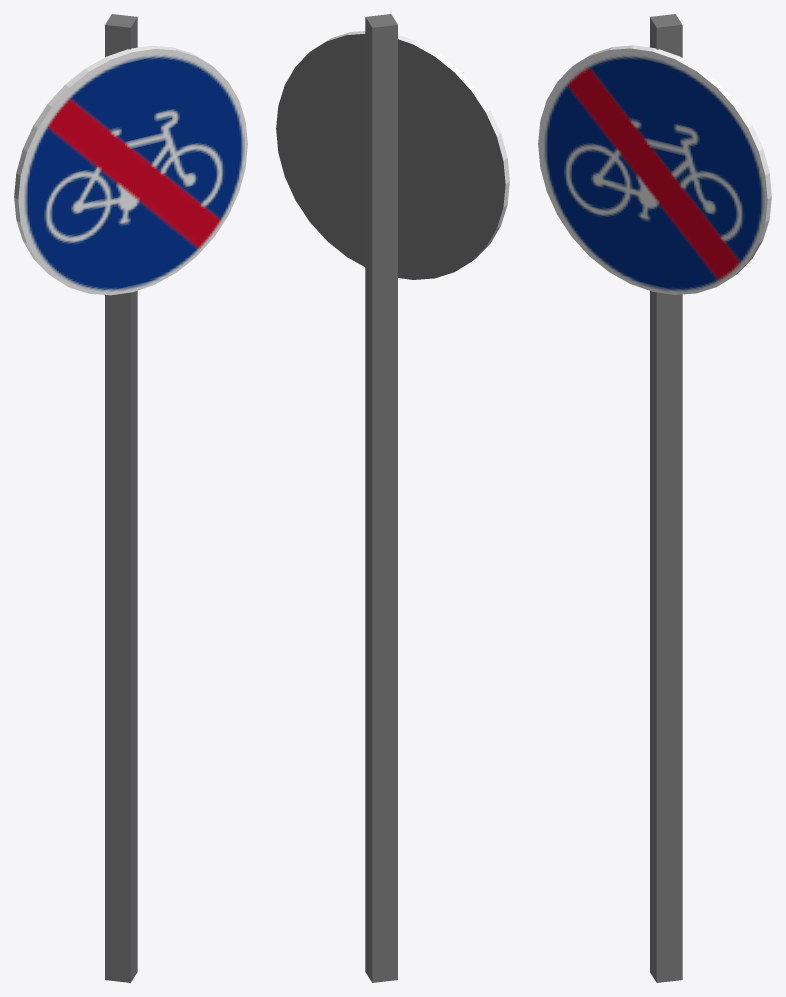
File: EndBikeLane.obj
The picture shows the model from 3 angles, left to right: view 1: azimuth 30°, elevation 25°; view 2: azimuth 150°, elevation 25°; view 3: azimuth 330°, elevation 25°; orthographic projection.
Visible parts, largest first — view 1: Sign_EndBicycleLane_Sign_EndCyclePath; view 2: Sign_EndBicycleLane_Sign_EndCyclePath; view 3: Sign_EndBicycleLane_Sign_EndCyclePath.
Boxes of the visible parts, x1=… form: Sign_EndBicycleLane_Sign_EndCyclePath: x1=14, y1=14, x2=247, y2=982; Sign_EndBicycleLane_Sign_EndCyclePath: x1=276, y1=14, x2=509, y2=982; Sign_EndBicycleLane_Sign_EndCyclePath: x1=538, y1=14, x2=771, y2=982.
Bounding box in the file's own units: 1.12 × 4.44 × 0.1857.
1 material, 1 textured.
